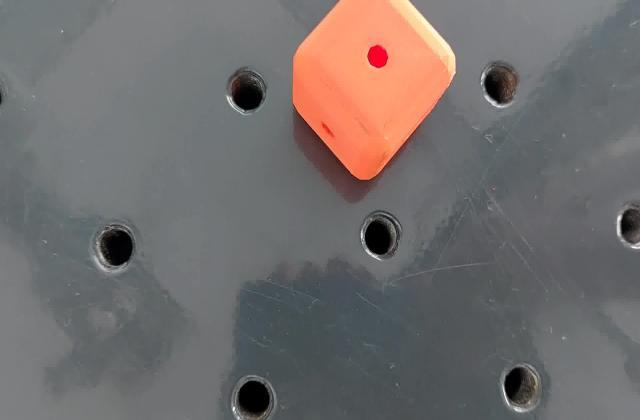cube: (290, 0, 458, 183)
